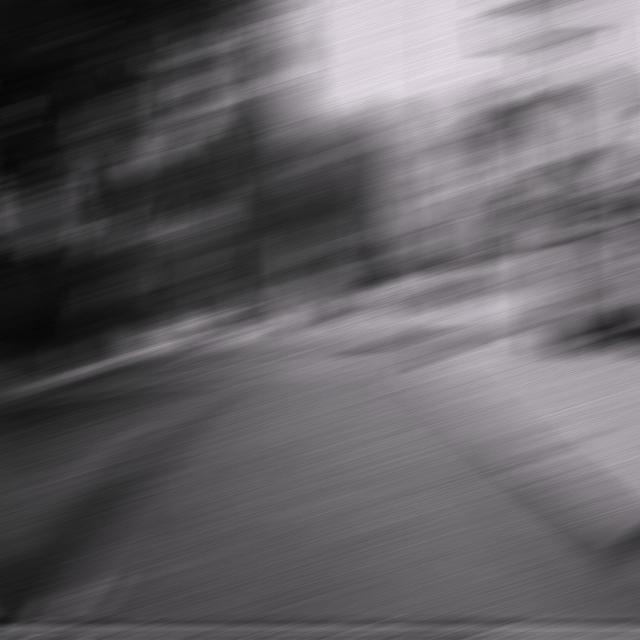pedestrianCrossing: (412, 171, 463, 221)
